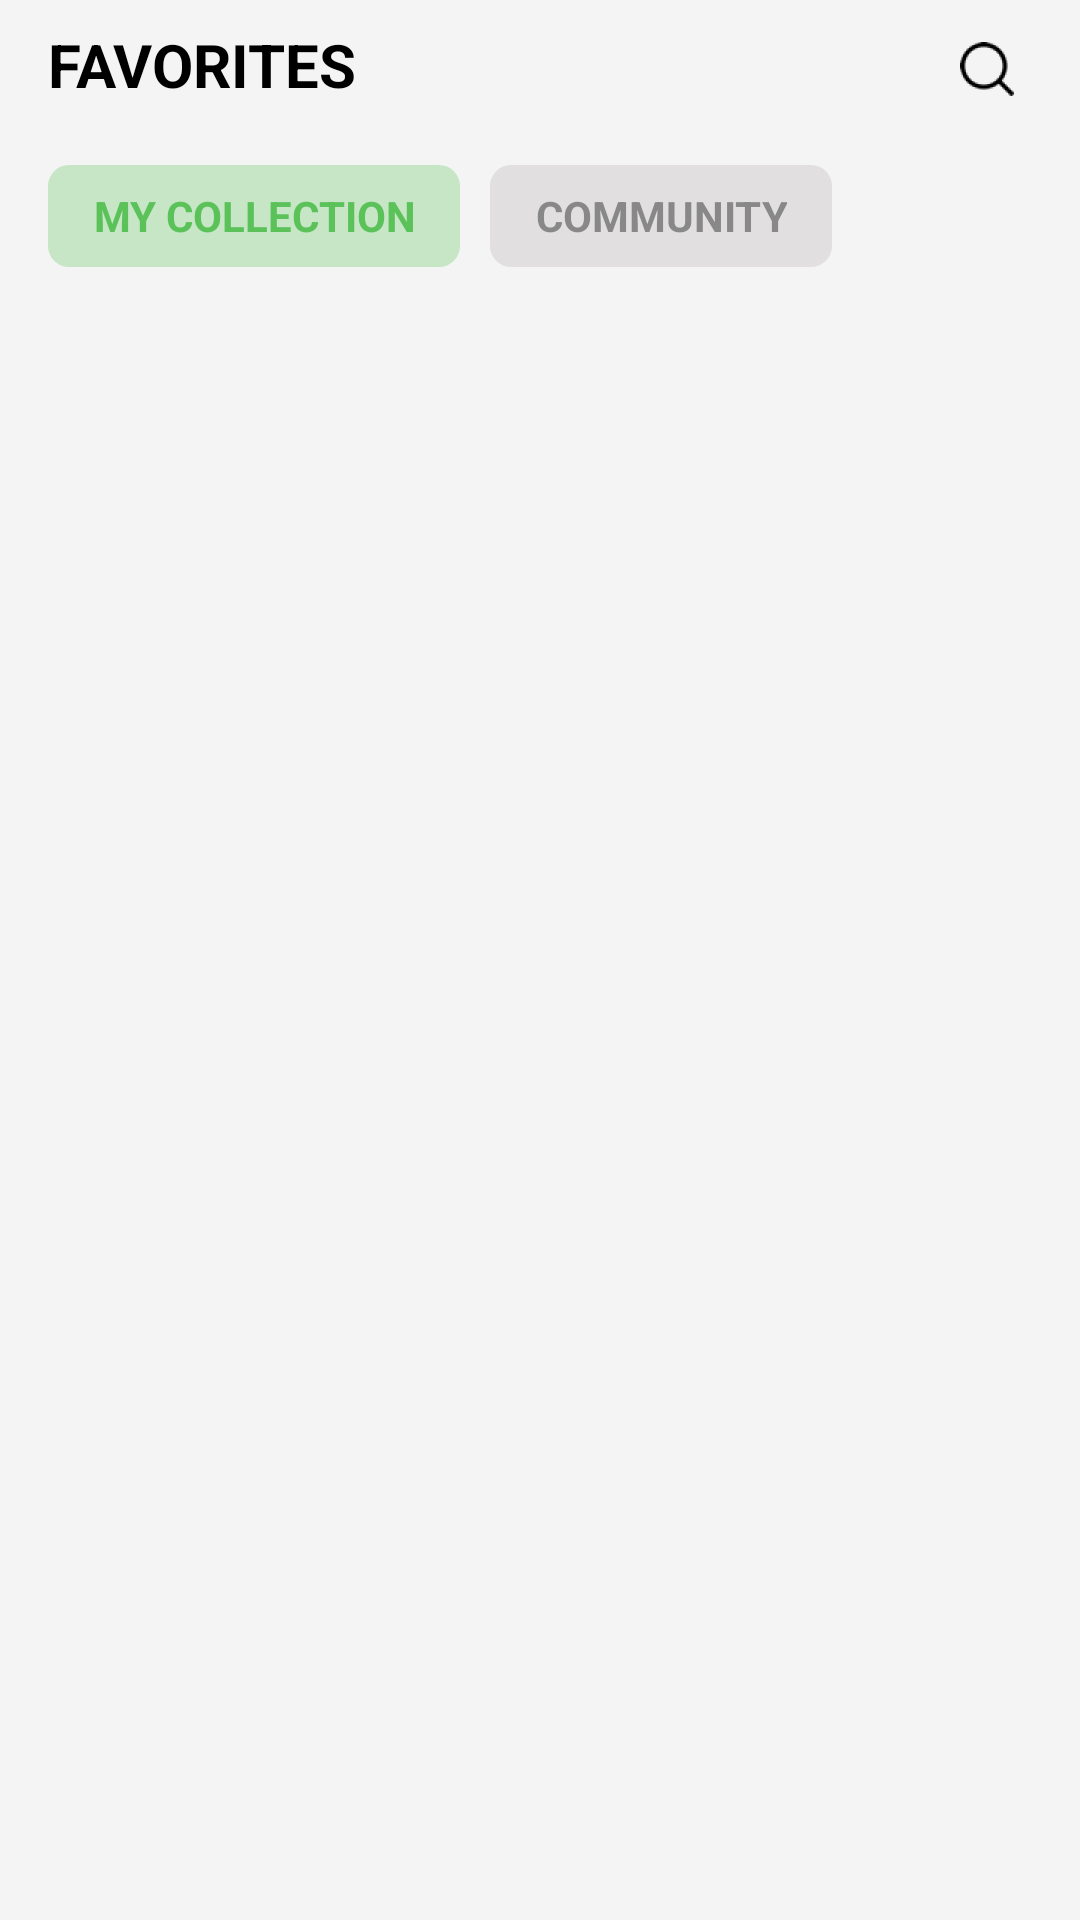

Icons on this 1080px x 1920px Android screen, each with its box as rect(x1, y1, x2, y2):
search: rect(960, 42, 1014, 96)
